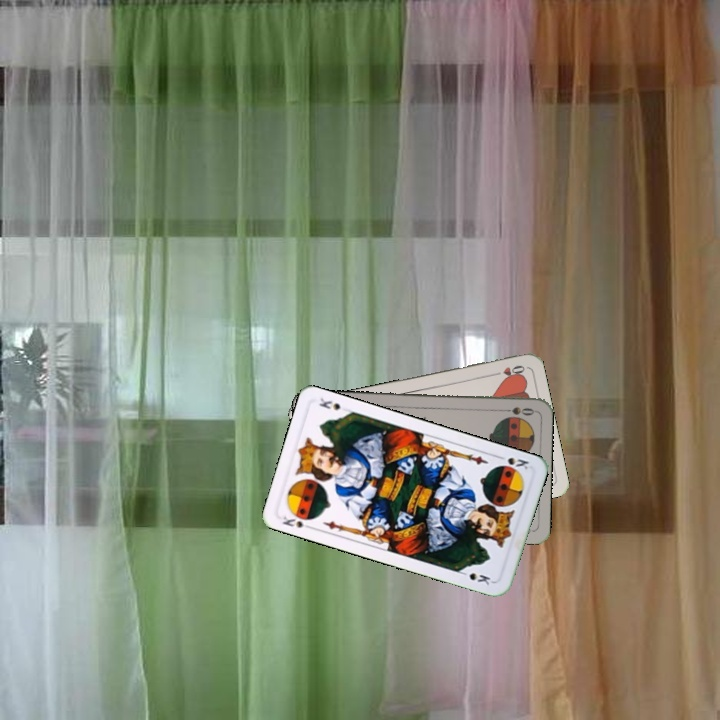HO: (488, 361, 528, 379)
SK: (493, 451, 531, 474), (278, 512, 316, 532)
SO: (496, 403, 537, 418)
